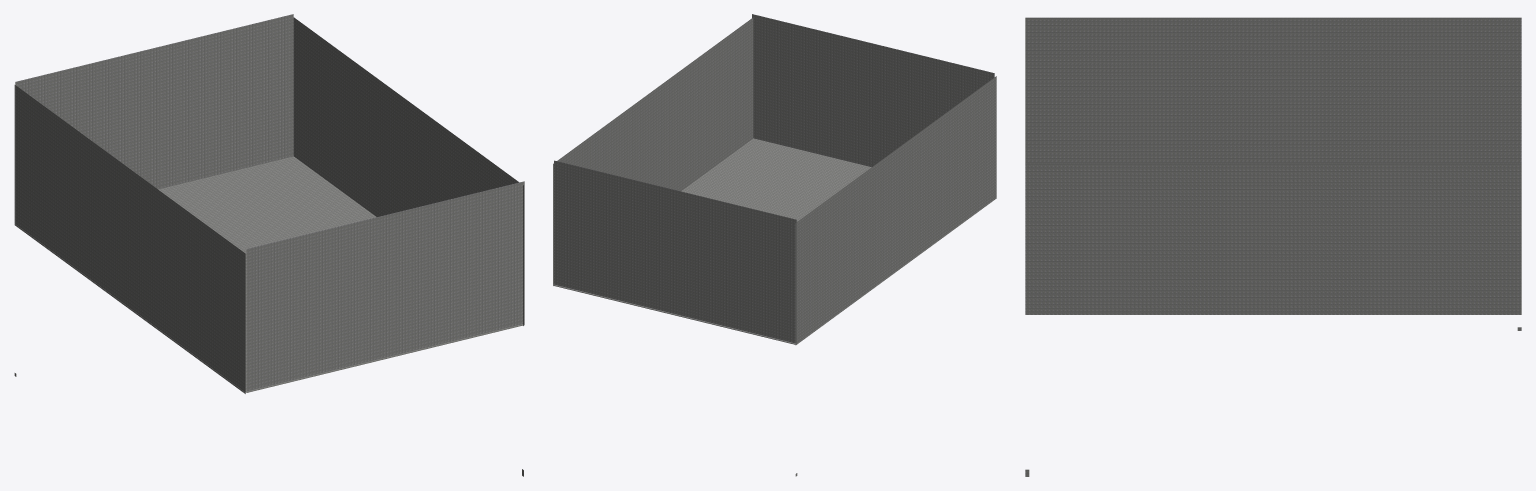
Rendered from Dungen.gltf.
3 renders of one model, left to right at view 1: azimuth 30°, elevation 25°; view 2: azimuth 150°, elevation 25°; view 3: azimuth 270°, elevation 25°, orthographic. The views are drawn at different scales.
Parts seen in each view (by area): view 1: map.004, map, map.001, map.002, map.003; view 2: map.001, map, map.004, map.002, map.003; view 3: map.002, map.
Part boxes in pixels (x1=…): map.004: x1=246, y1=181, x2=524, y2=392; map: x1=14, y1=85, x2=245, y2=393; map.001: x1=15, y1=14, x2=293, y2=225; map.002: x1=293, y1=17, x2=523, y2=476; map.003: x1=17, y1=156, x2=522, y2=392; map.001: x1=554, y1=160, x2=796, y2=344; map: x1=795, y1=76, x2=996, y2=476; map.004: x1=752, y1=14, x2=994, y2=166; map.002: x1=553, y1=17, x2=753, y2=285; map.003: x1=553, y1=138, x2=996, y2=344; map.002: x1=1025, y1=163, x2=1521, y2=476; map: x1=1025, y1=17, x2=1521, y2=330.
Bounding box in the file's own units: 175 × 176 × 250.
5 materials, 5 textured.
